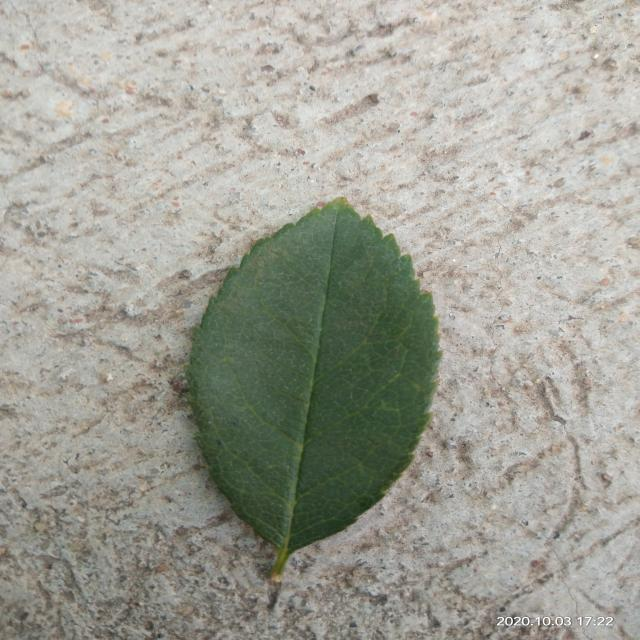rose: (185, 199, 442, 584)
